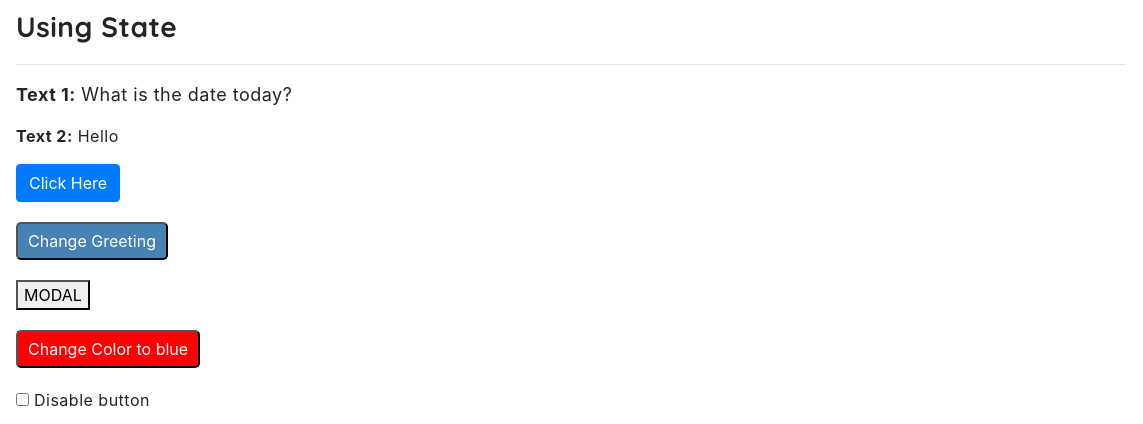
Scenario: changes greeting
# Find the 'Change Greeting' button using 'getByText', then click it.
Click the button "Change Greeting".
click(92, 241)  # box [16,222,168,260]
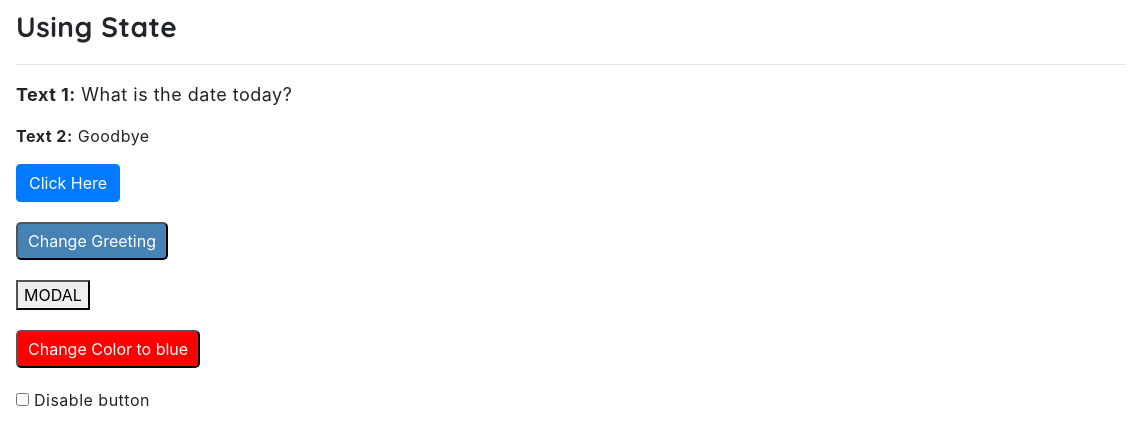
Result: the element with test id "greeting" shows "Goodbye" at [78,126,150,146]
